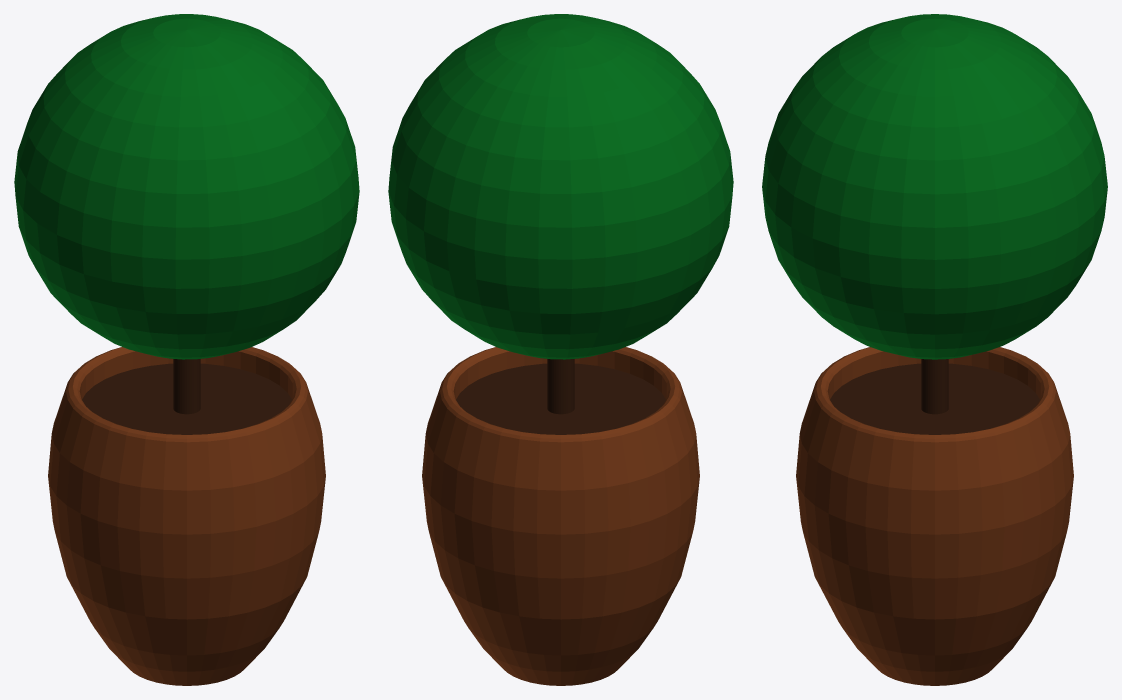
The model's file is pot_ball_short.glb.
3 renders of one model, left to right at view 1: azimuth 30°, elevation 25°; view 2: azimuth 150°, elevation 25°; view 3: azimuth 270°, elevation 25°, orthographic.
Parts seen in each view (by area): view 1: Cylinder; view 2: Cylinder; view 3: Cylinder.
Part boxes in pixels (<box>): Cylinder: <box>14,14,359,685</box>; Cylinder: <box>388,14,733,685</box>; Cylinder: <box>762,14,1107,685</box>.
Size of the model in its own units: 1.4 by 2.81 by 1.4.
Materials: 3 (3 with a texture image).
